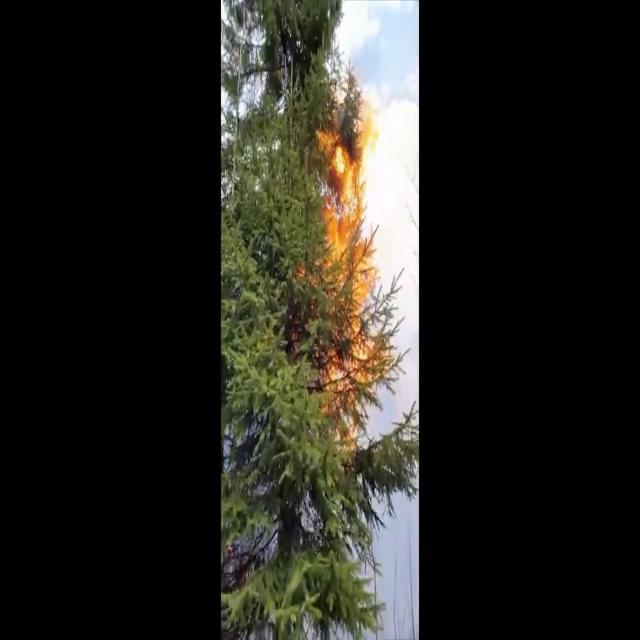Fire: (304, 72, 388, 465)
